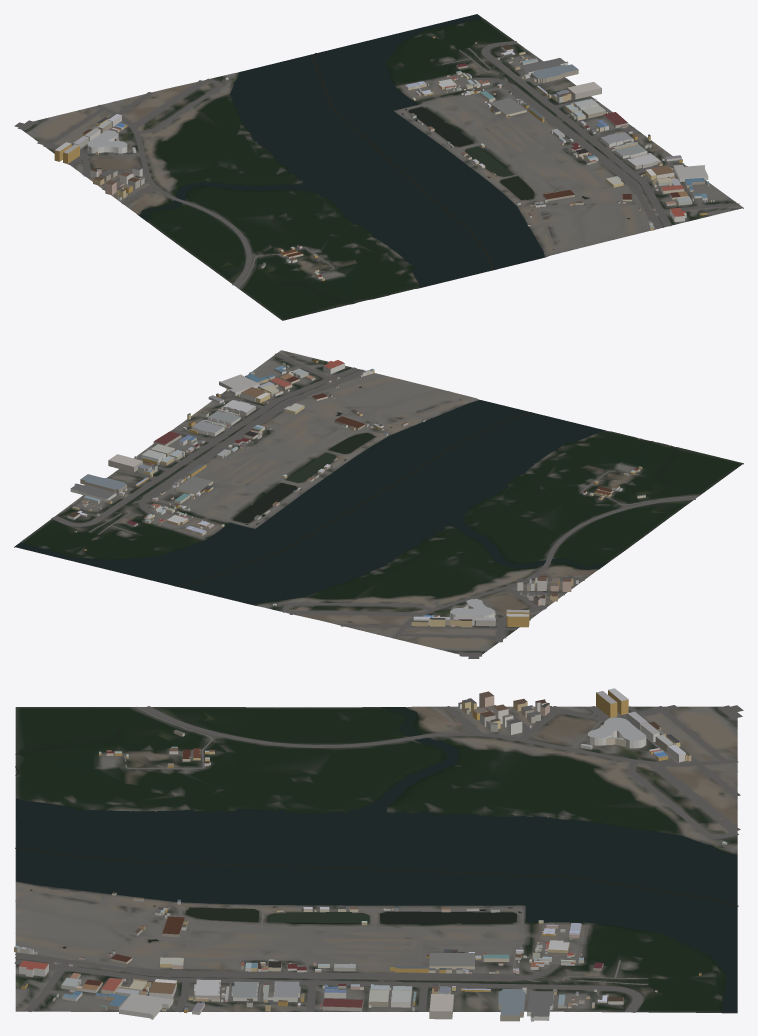
The picture shows the model from 3 angles, top to bottom: view 1: azimuth 30°, elevation 25°; view 2: azimuth 150°, elevation 25°; view 3: azimuth 270°, elevation 25°; orthographic projection. The views are drawn at different scales.
Parts seen in each view (by area): view 1: ground, water, buildings, roads; view 2: ground, water, buildings, roads; view 3: ground, water, buildings, roads.
Boxes of the visible parts, x1,y1,x2,y2 form: ground: (22, 14, 743, 320); water: (139, 14, 629, 303); buildings: (54, 36, 714, 280); roads: (14, 41, 739, 288); ground: (14, 350, 743, 654); water: (15, 386, 673, 604); buildings: (67, 358, 645, 627); roads: (51, 352, 698, 658); ground: (15, 706, 737, 1013); water: (15, 707, 738, 1012); buildings: (14, 688, 727, 1021); roads: (14, 705, 743, 1012).
Bounding box in the file's own units: 1465 × 36.29 × 1416.
